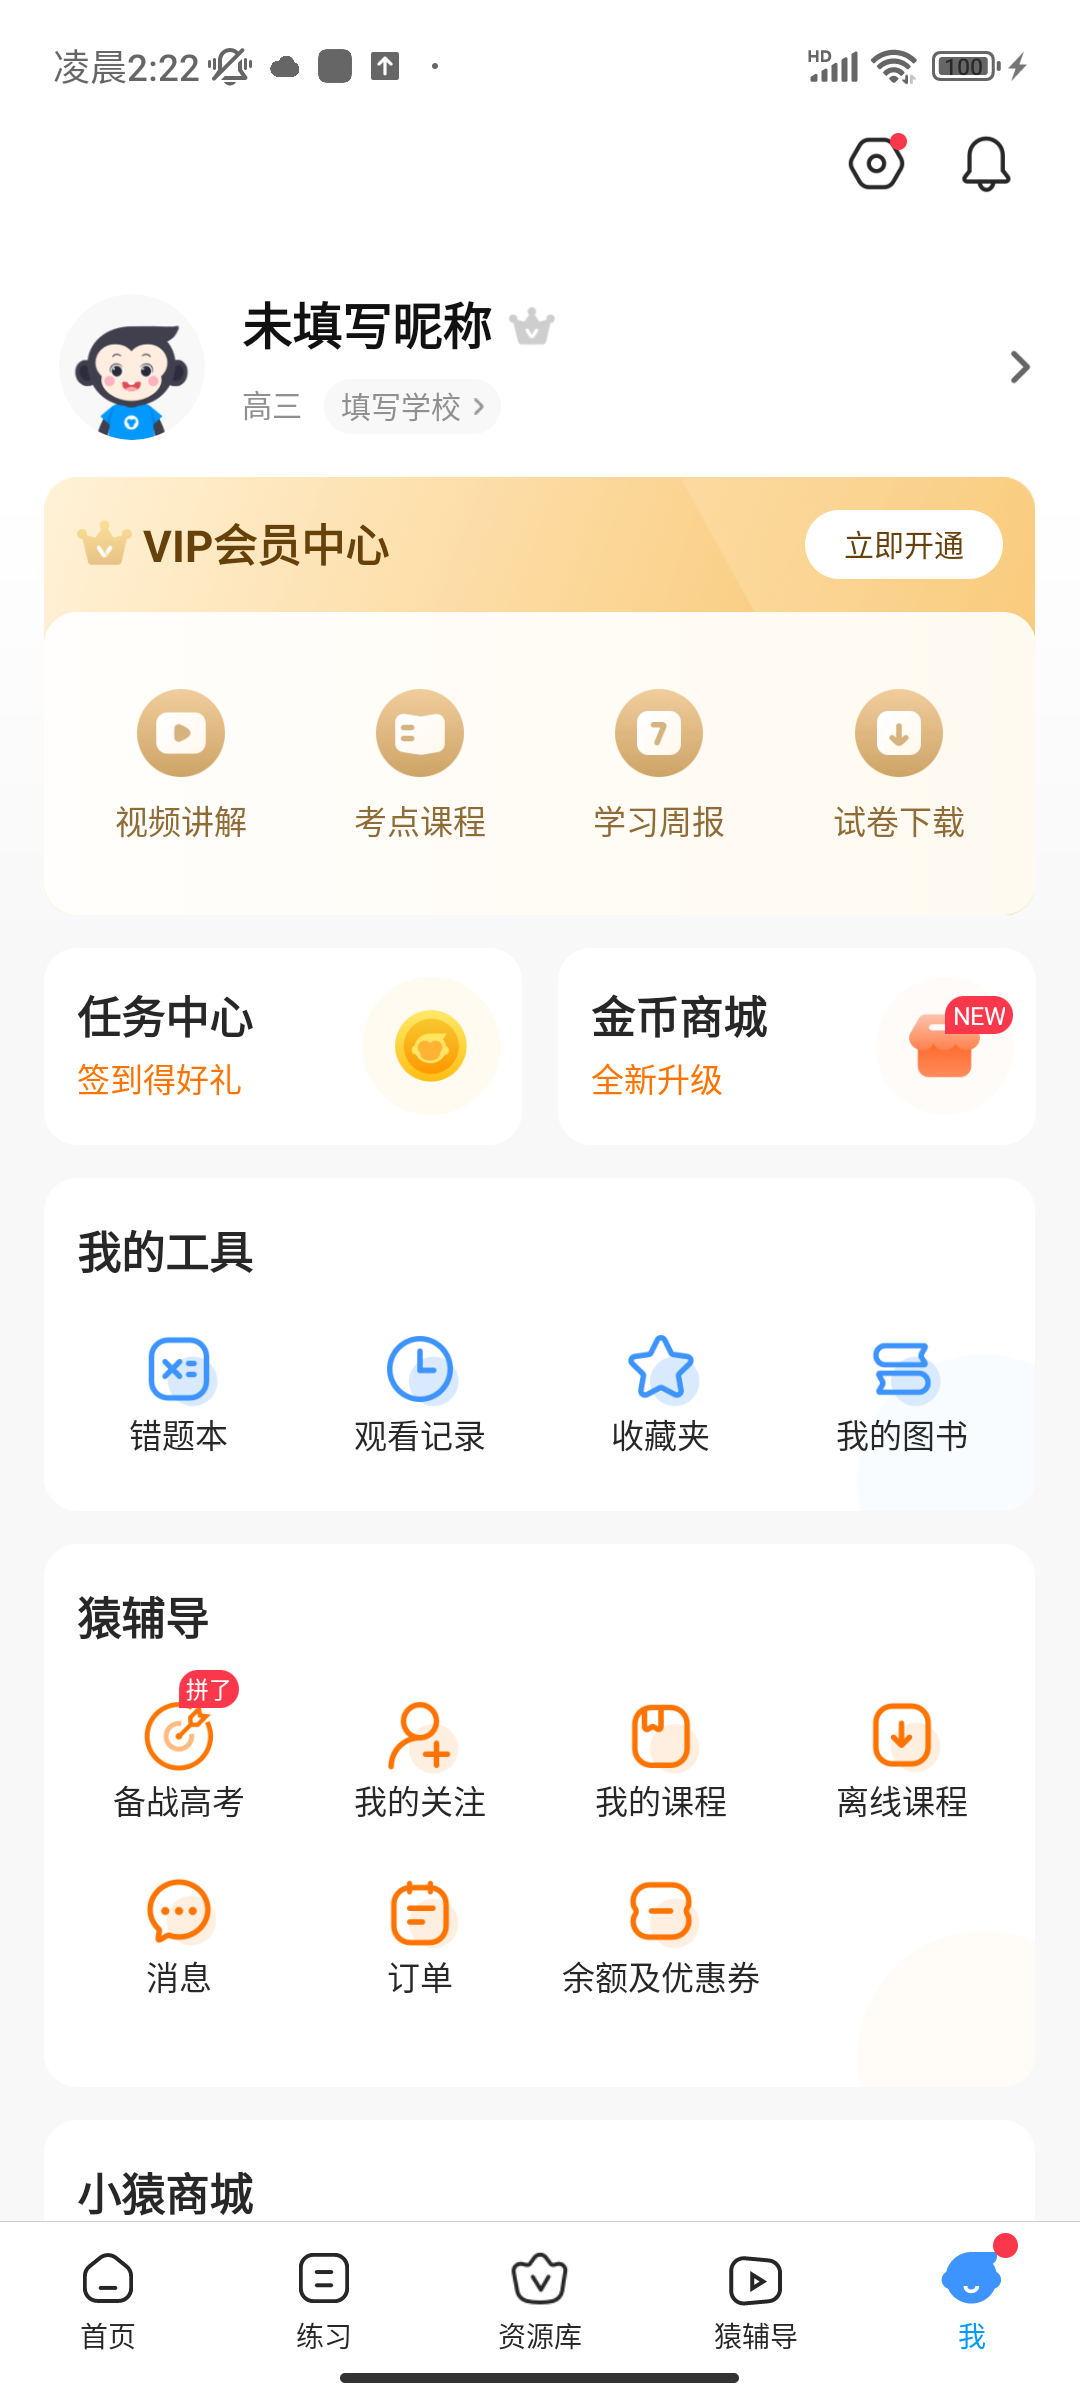ui_group: (32, 478, 1042, 918), (551, 937, 1042, 1142), (35, 947, 526, 1140), (323, 1648, 512, 1840), (548, 1861, 769, 2019), (812, 1290, 990, 1482), (815, 1652, 993, 1840), (572, 1652, 742, 1847), (327, 1304, 509, 1474), (93, 1656, 254, 1837), (333, 1861, 503, 2020), (584, 1296, 728, 1477), (96, 1307, 252, 1466), (95, 1863, 249, 2017)
